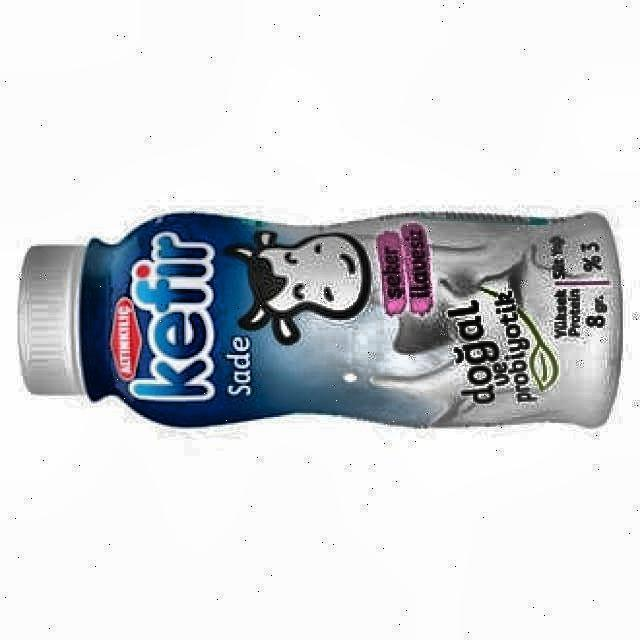plastic: (19, 212, 621, 426)
